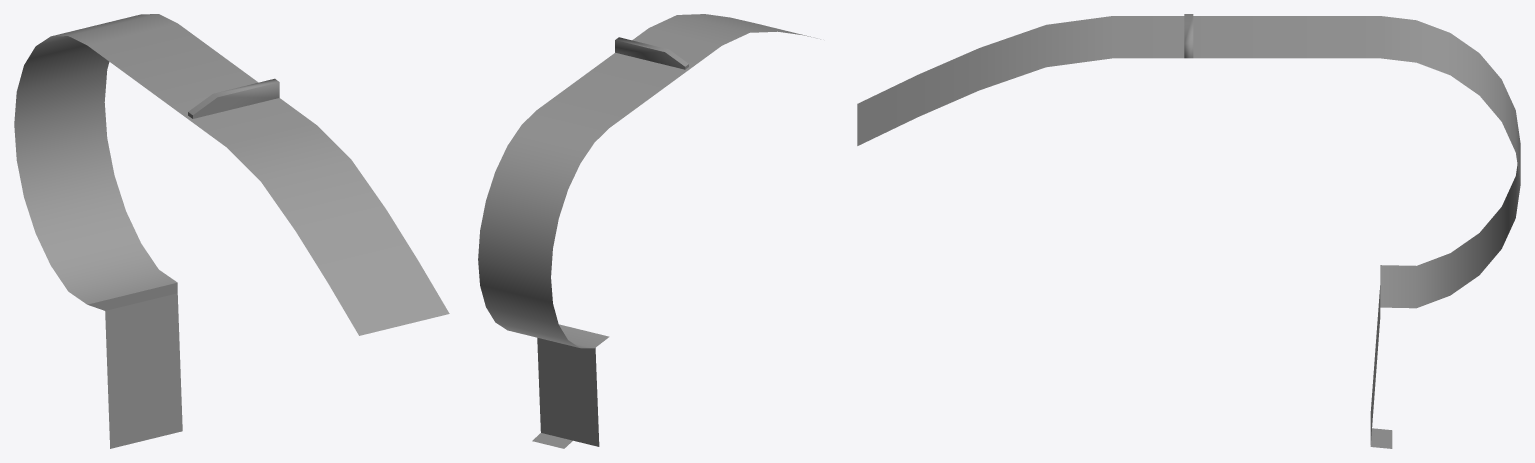
Rendered from SW_ENV_Escalator_TopSteps_Connector.fbx.
3 renders of one model, left to right at view 1: azimuth 30°, elevation 25°; view 2: azimuth 150°, elevation 25°; view 3: azimuth 270°, elevation 25°, orthographic. The views are drawn at different scales.
Parts seen in each view (by area): view 1: SW_ENV_Escalator_TopSteps_Connector; view 2: SW_ENV_Escalator_TopSteps_Connector; view 3: SW_ENV_Escalator_TopSteps_Connector.
Part boxes in pixels (left/top/right/bottom): SW_ENV_Escalator_TopSteps_Connector: left=14, top=14, right=449, bottom=448; SW_ENV_Escalator_TopSteps_Connector: left=478, top=14, right=820, bottom=448; SW_ENV_Escalator_TopSteps_Connector: left=857, top=14, right=1520, bottom=448.
Bounding box in the file's own units: 0.2255 × 1 × 1.49.
